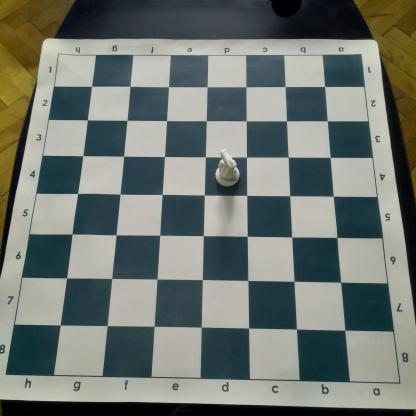white-knight: (214, 148, 242, 188)
